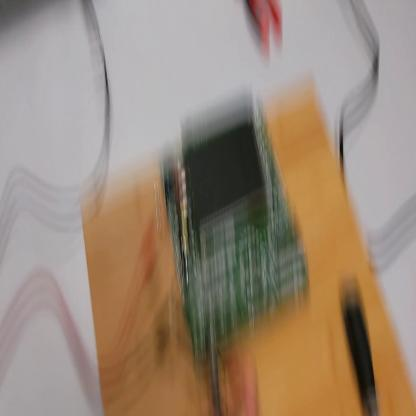hand: (221, 324, 264, 416)
low voltage board: (157, 104, 308, 367)
oscilloscope probe tip: (205, 317, 224, 416)
pliers: (247, 1, 284, 53)
screwdriver-: (342, 282, 380, 414)
working area: (82, 87, 416, 413)
